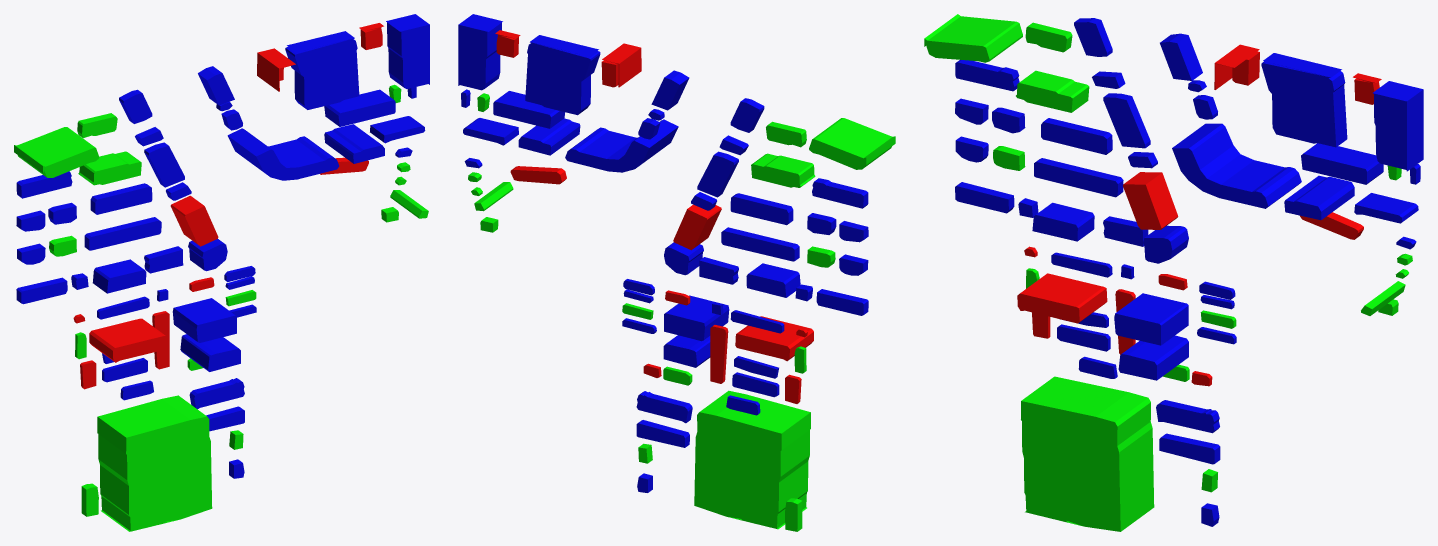
3 views of the same model, side by side, from view 1: azimuth 30°, elevation 25°; view 2: azimuth 150°, elevation 25°; view 3: azimuth 330°, elevation 25° (orthographic). The views are drawn at different scales.
Parts seen in each view (by area): view 1: building_61, building_2, building_19, building_4, building_9, building_51, building_47, building_17, building_20, building_54, building_13, building_27 (+24 smaller); view 2: building_61, building_2, building_19, building_4, building_9, building_51, building_47, building_13, building_17, building_31, building_20, building_37 (+25 smaller); view 3: building_61, building_2, building_19, building_4, building_9, building_51, building_47, building_27, building_17, building_54, building_13, building_20 (+26 smaller).
Part boxes in pixels (x1=…): building_61: x1=97, y1=395, x2=212, y2=531; building_2: x1=285, y1=31, x2=359, y2=109; building_19: x1=227, y1=128, x2=339, y2=180; building_4: x1=386, y1=14, x2=429, y2=88; building_9: x1=14, y1=127, x2=99, y2=177; building_51: x1=89, y1=318, x2=166, y2=362; building_47: x1=172, y1=298, x2=236, y2=342; building_17: x1=324, y1=89, x2=395, y2=126; building_20: x1=324, y1=124, x2=384, y2=163; building_54: x1=180, y1=334, x2=240, y2=371; building_13: x1=78, y1=151, x2=141, y2=185; building_27: x1=170, y1=195, x2=218, y2=246; building_61: x1=694, y1=390, x2=810, y2=529; building_2: x1=525, y1=35, x2=600, y2=115; building_19: x1=565, y1=119, x2=678, y2=172; building_4: x1=458, y1=14, x2=502, y2=90; building_9: x1=809, y1=118, x2=895, y2=169; building_51: x1=735, y1=316, x2=813, y2=361; building_47: x1=664, y1=295, x2=729, y2=341; building_13: x1=751, y1=153, x2=815, y2=187; building_17: x1=493, y1=91, x2=564, y2=128; building_31: x1=721, y1=227, x2=799, y2=261; building_20: x1=518, y1=118, x2=580, y2=155; building_37: x1=746, y1=263, x2=800, y2=297; building_61: x1=1021, y1=376, x2=1154, y2=531; building_2: x1=1261, y1=53, x2=1347, y2=147; building_19: x1=1172, y1=123, x2=1301, y2=208; building_4: x1=1373, y1=81, x2=1423, y2=171; building_9: x1=924, y1=14, x2=1022, y2=62; building_51: x1=1017, y1=273, x2=1107, y2=323; building_47: x1=1114, y1=293, x2=1188, y2=345; building_27: x1=1123, y1=172, x2=1178, y2=229; building_17: x1=1301, y1=143, x2=1383, y2=184; building_54: x1=1118, y1=335, x2=1188, y2=380; building_13: x1=1016, y1=70, x2=1089, y2=112; building_20: x1=1284, y1=175, x2=1354, y2=220.
Bounding box in the file's own units: 2047 × 2047 × 255.
